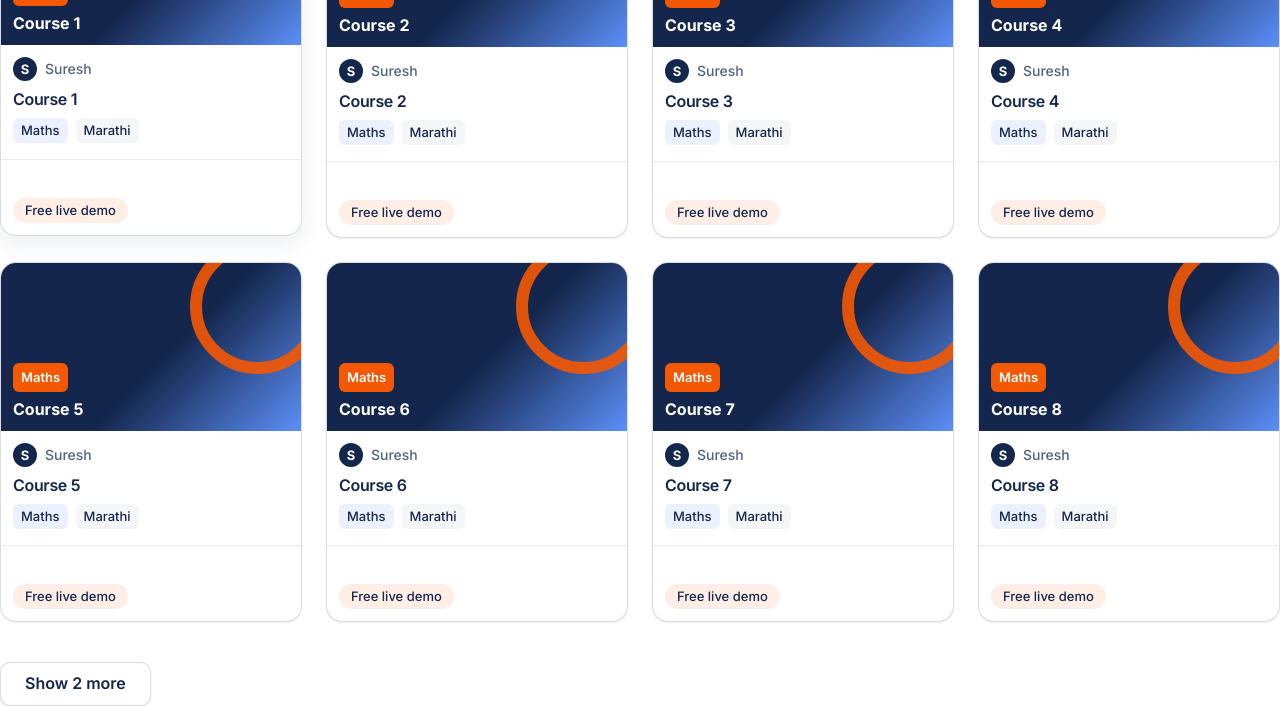
Test: courses load 8 at a time: "Show N more" adds the next page under the cards
The width and height of the screenshot is (1280, 706).
(page scrolled)
Click the button "Show 2 more": (75, 684) [0,662,151,705]
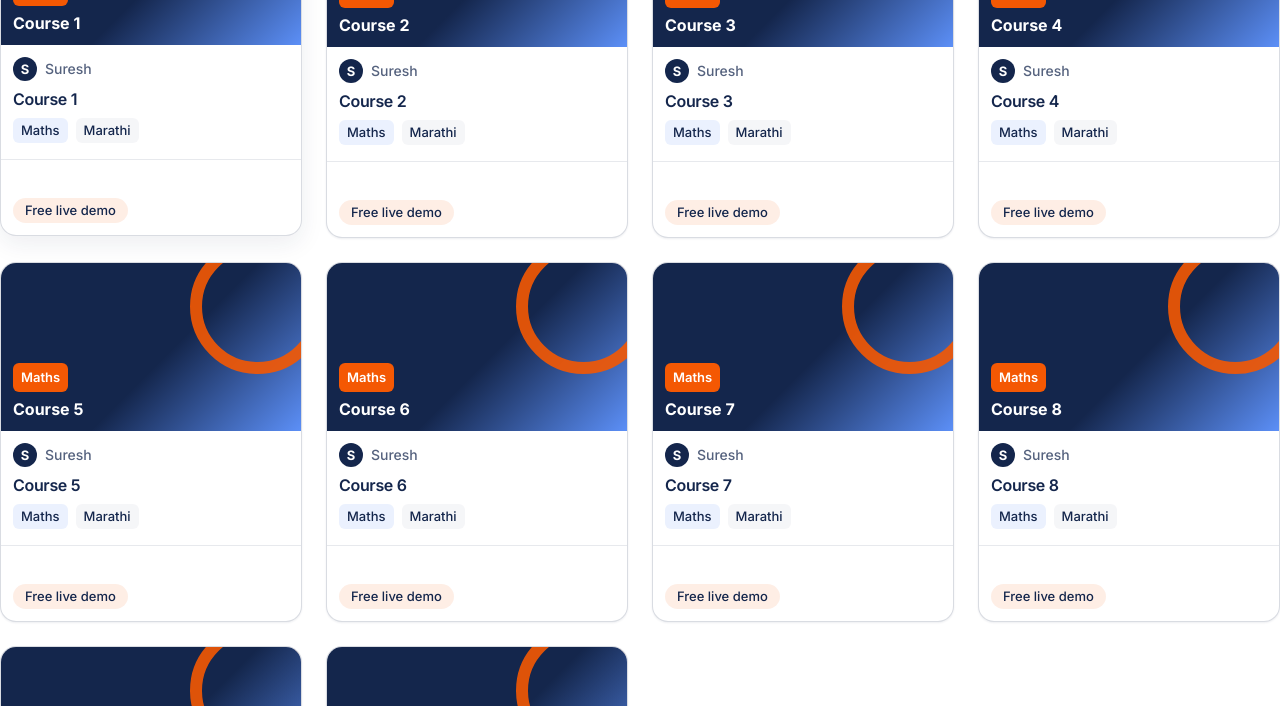
Now the button "Show 2 more" is gone
